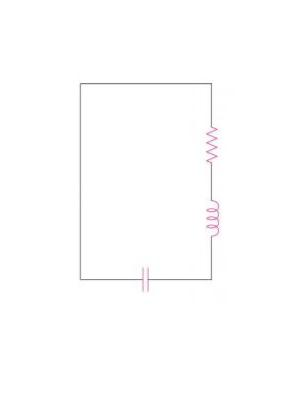resistor: (192, 115, 227, 176)
